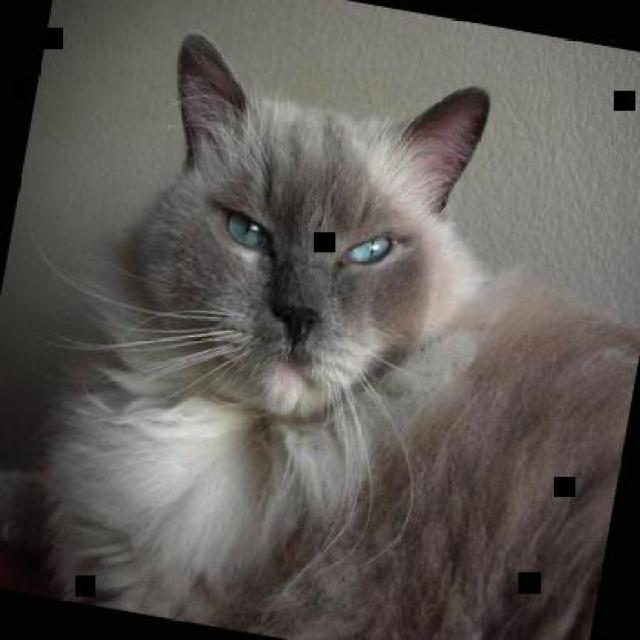cat: (9, 14, 638, 638)
